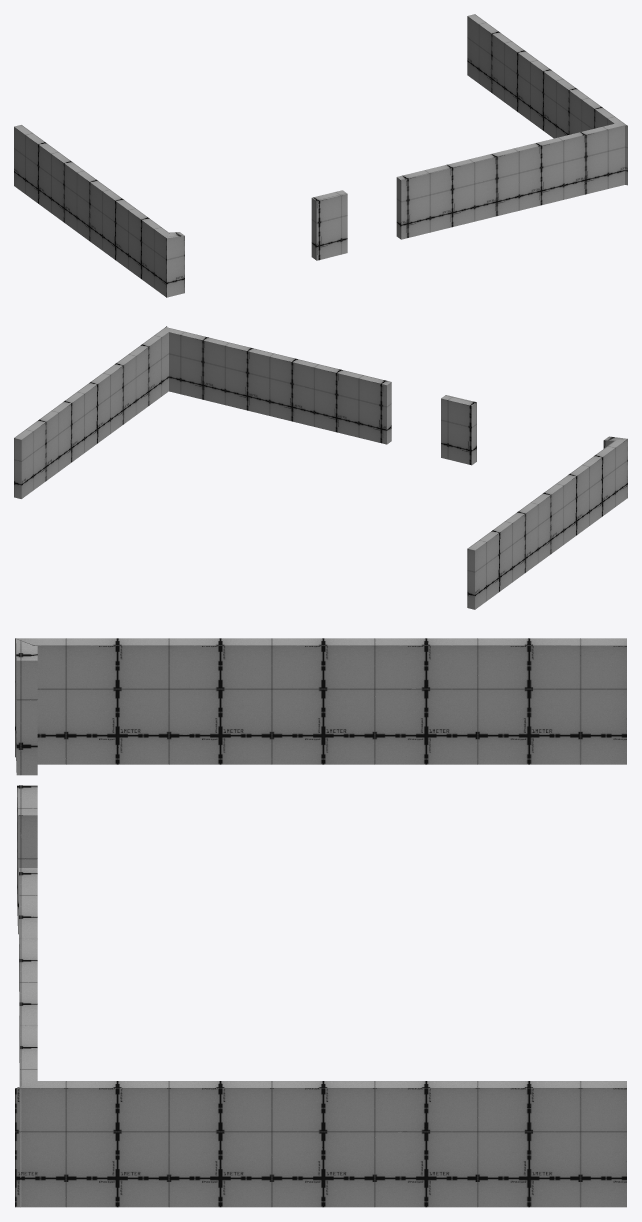
The model's file is Casa_EXTERIOR_Muro_Anterior_Bajo.fbx.
3 renders of one model, top to bottom at view 1: azimuth 30°, elevation 25°; view 2: azimuth 150°, elevation 25°; view 3: azimuth 270°, elevation 25°, orthographic. The views are drawn at different scales.
Visible parts, largest first — view 1: Casa_EXTERIOR_Muro_Anterior_Bajo; view 2: Casa_EXTERIOR_Muro_Anterior_Bajo; view 3: Casa_EXTERIOR_Muro_Anterior_Bajo.
Part boxes in pixels (<box>): Casa_EXTERIOR_Muro_Anterior_Bajo: <box>14,14,627,297</box>; Casa_EXTERIOR_Muro_Anterior_Bajo: <box>14,326,627,609</box>; Casa_EXTERIOR_Muro_Anterior_Bajo: <box>15,638,626,1207</box>.
Bounding box in the file's own units: 10.37 × 1.27 × 5.95.
